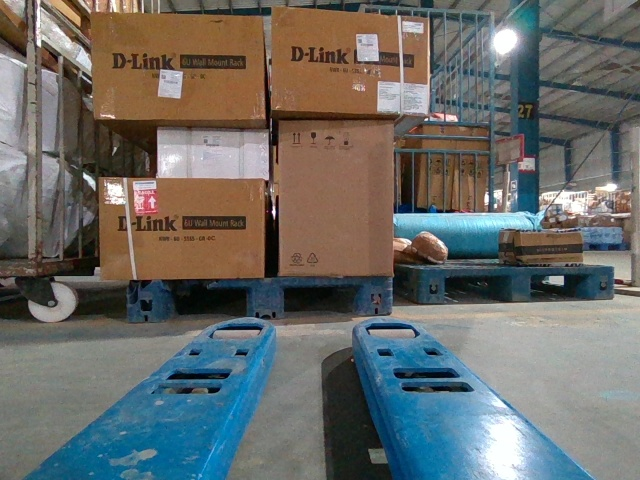block: (126, 280, 172, 323), (244, 278, 288, 319), (355, 276, 395, 316), (412, 266, 448, 303), (505, 267, 537, 301), (588, 268, 613, 302)
front: (122, 279, 394, 324), (418, 266, 615, 302)
hole pallet: (168, 288, 245, 324), (282, 284, 359, 316), (448, 274, 512, 301), (531, 275, 586, 299)
